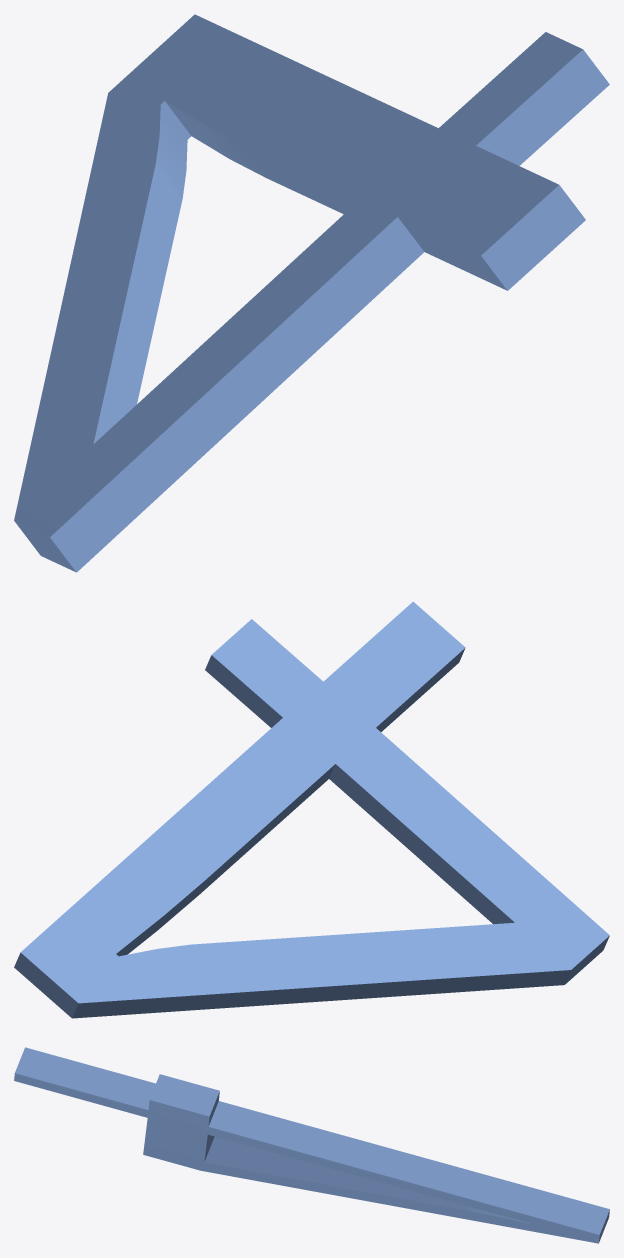
The model's file is New_Number_4.gltf.
The picture shows the model from 3 angles, top to bottom: view 1: azimuth 30°, elevation 25°; view 2: azimuth 150°, elevation 25°; view 3: azimuth 270°, elevation 25°; orthographic projection. The views are drawn at different scales.
Parts seen in each view (by area): view 1: Part 643; view 2: Part 643; view 3: Part 643.
Boxes of the visible parts, x1,y1,x2,y2 form: Part 643: (14, 14, 609, 572); Part 643: (14, 601, 609, 1018); Part 643: (14, 1047, 609, 1243).
Size of the model in its own units: 0.00366 by 0.0025 by 0.00545.
